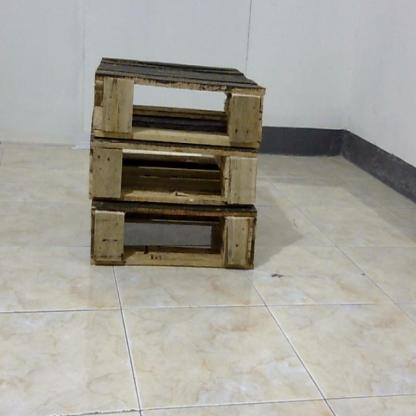Wooden-Pallet: (93, 58, 264, 149), (92, 147, 260, 211), (90, 211, 257, 269)
